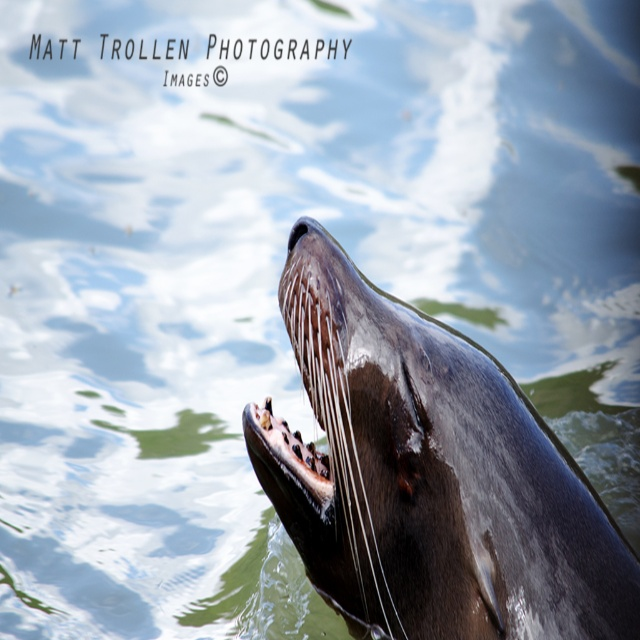Sea lion: (241, 218, 639, 639)
